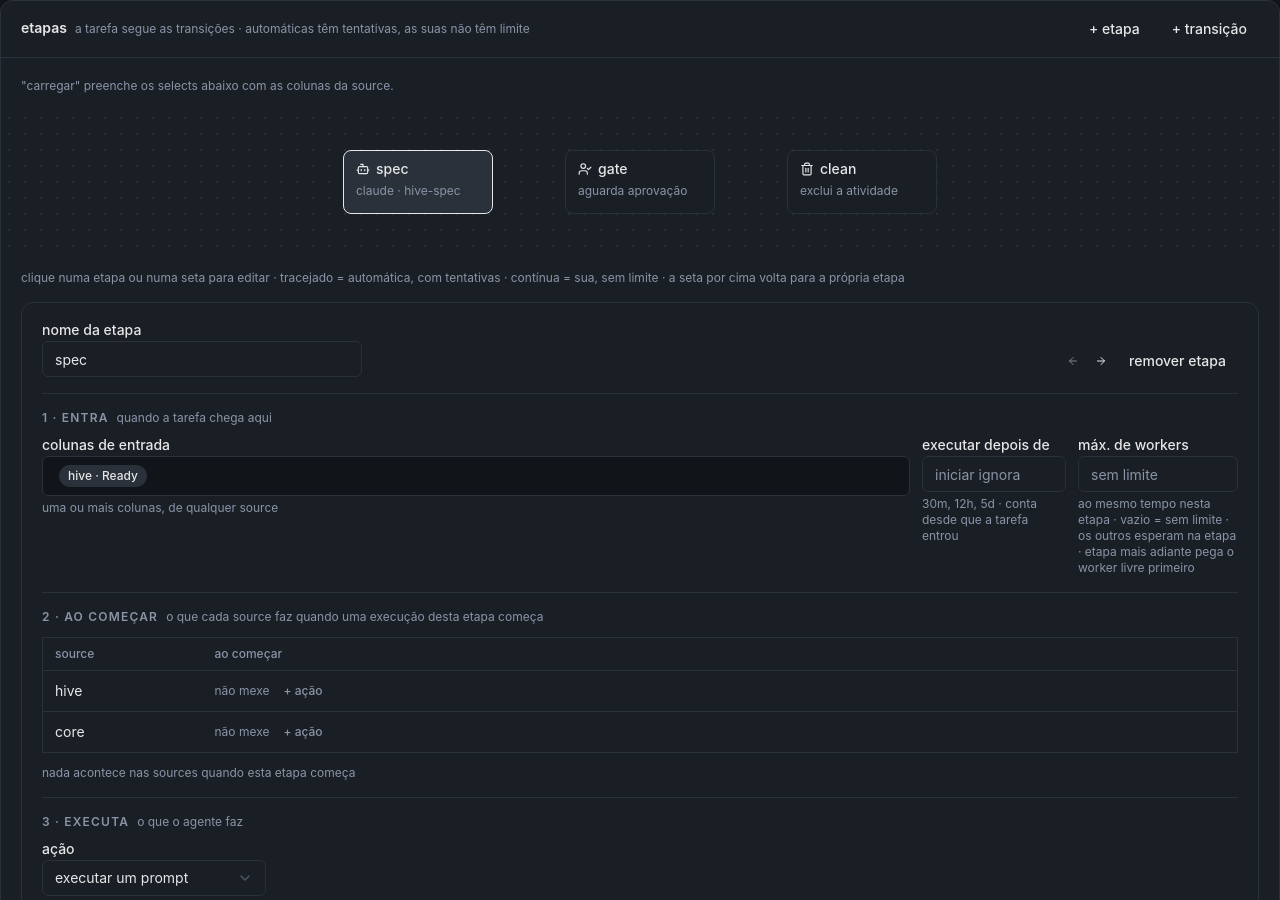
Scenario: entra: one entry select over every source, "source · column" chips, and the after / máx. de workers fields (#515)
Expected: the heading "1 · entra" is shown, [42, 410, 109, 426]
Expected: the heading "3 · executa" is shown, [42, 814, 129, 830]
Click the dropdown named "colunas de entrada" at (103, 476), box [42, 456, 910, 496]
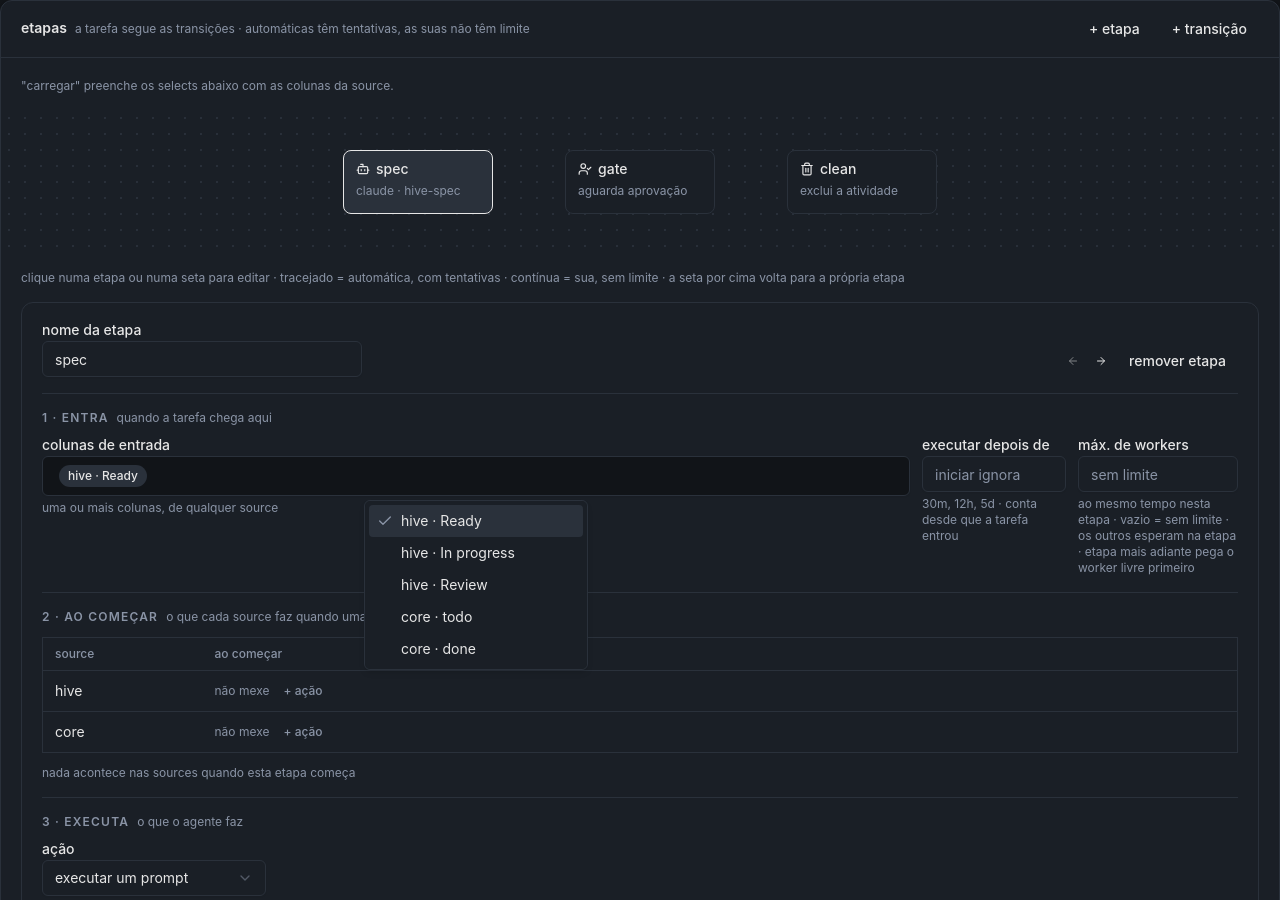
Expected: the options read "hive · Ready", "hive · In progress", "hive · Review", "core · todo", "core · done", in this order
Click the option "core · todo" at (437, 616), box [401, 608, 472, 625]
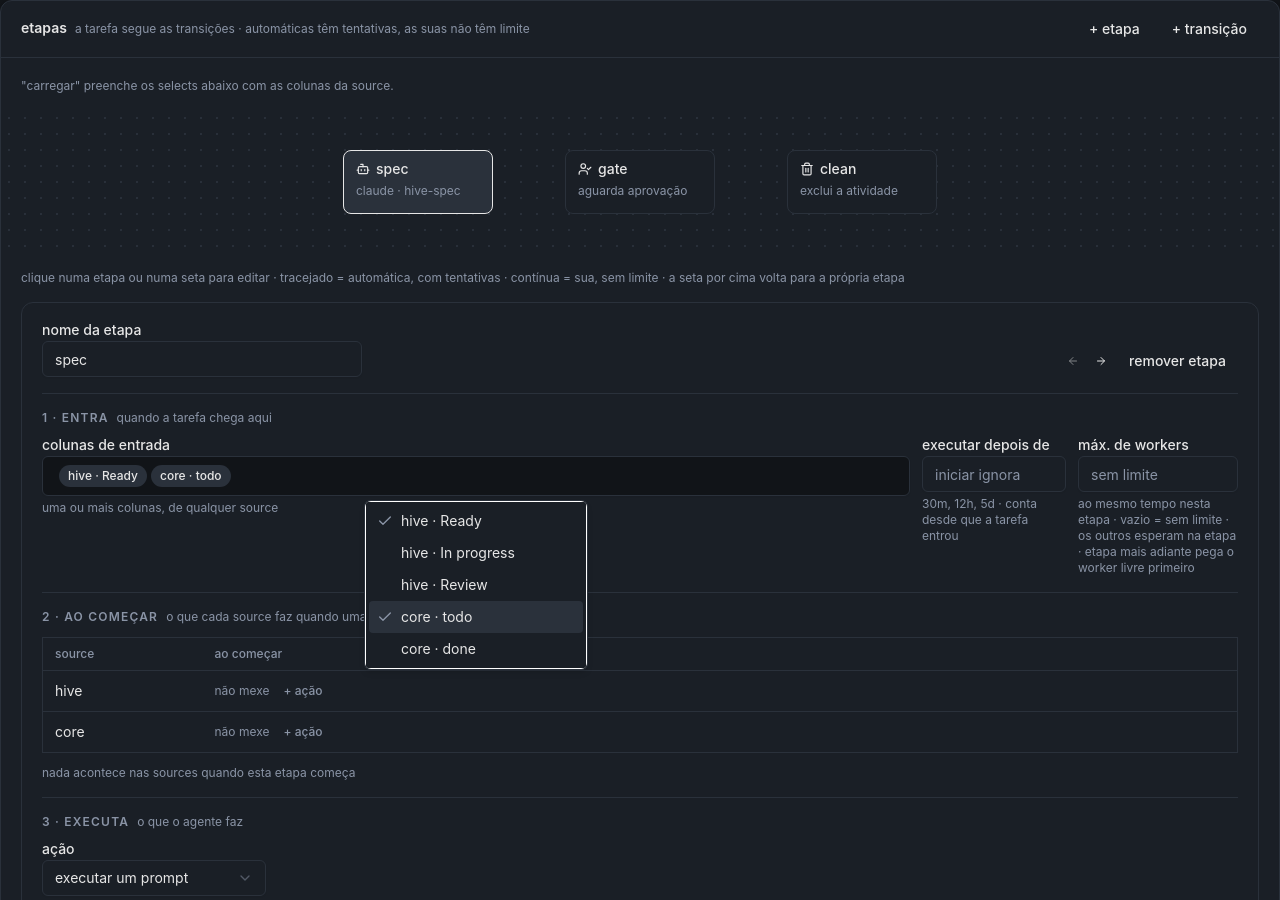
Press Escape
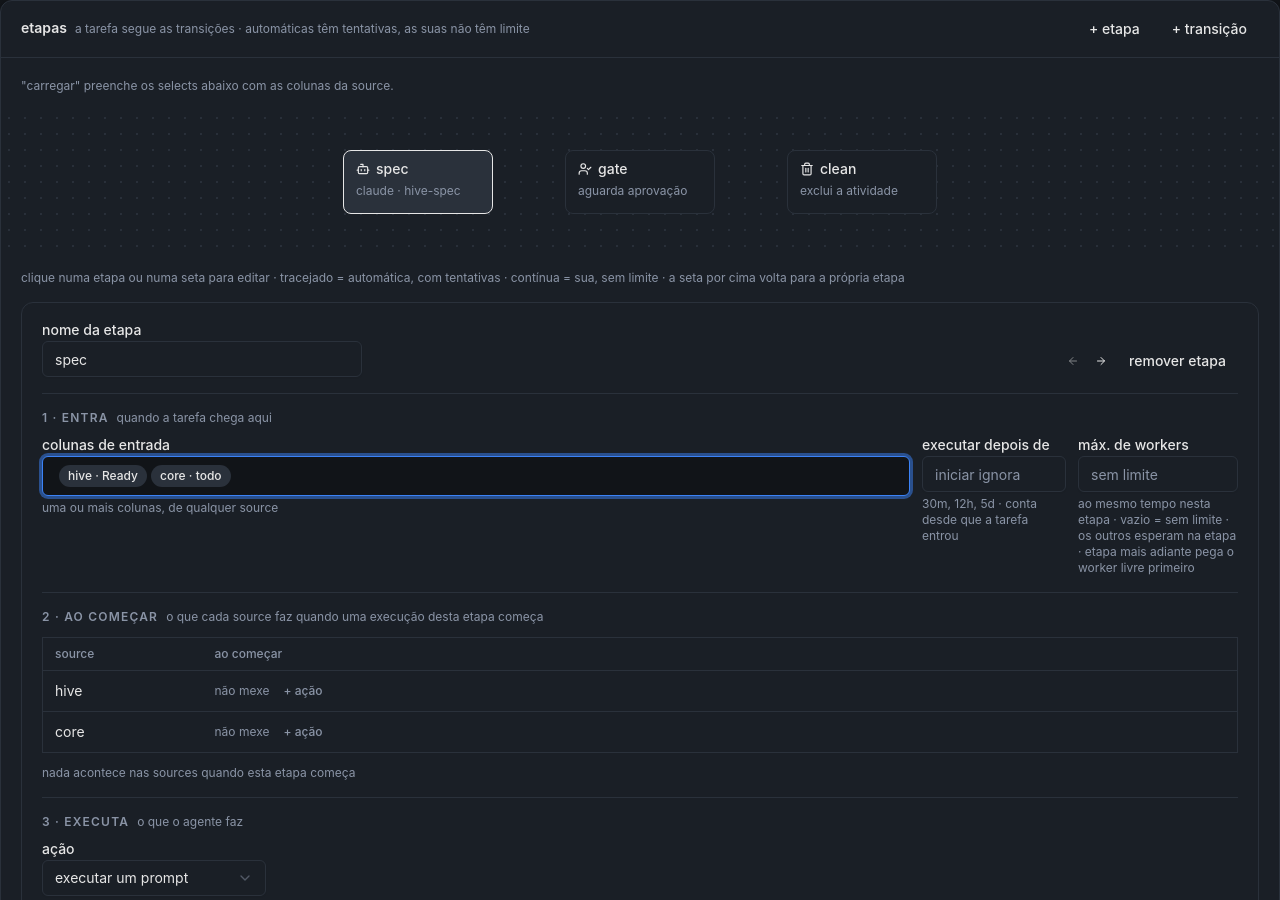
Type "5d" into the field labelled "executar depois de" at (994, 474), box [922, 456, 1066, 492]
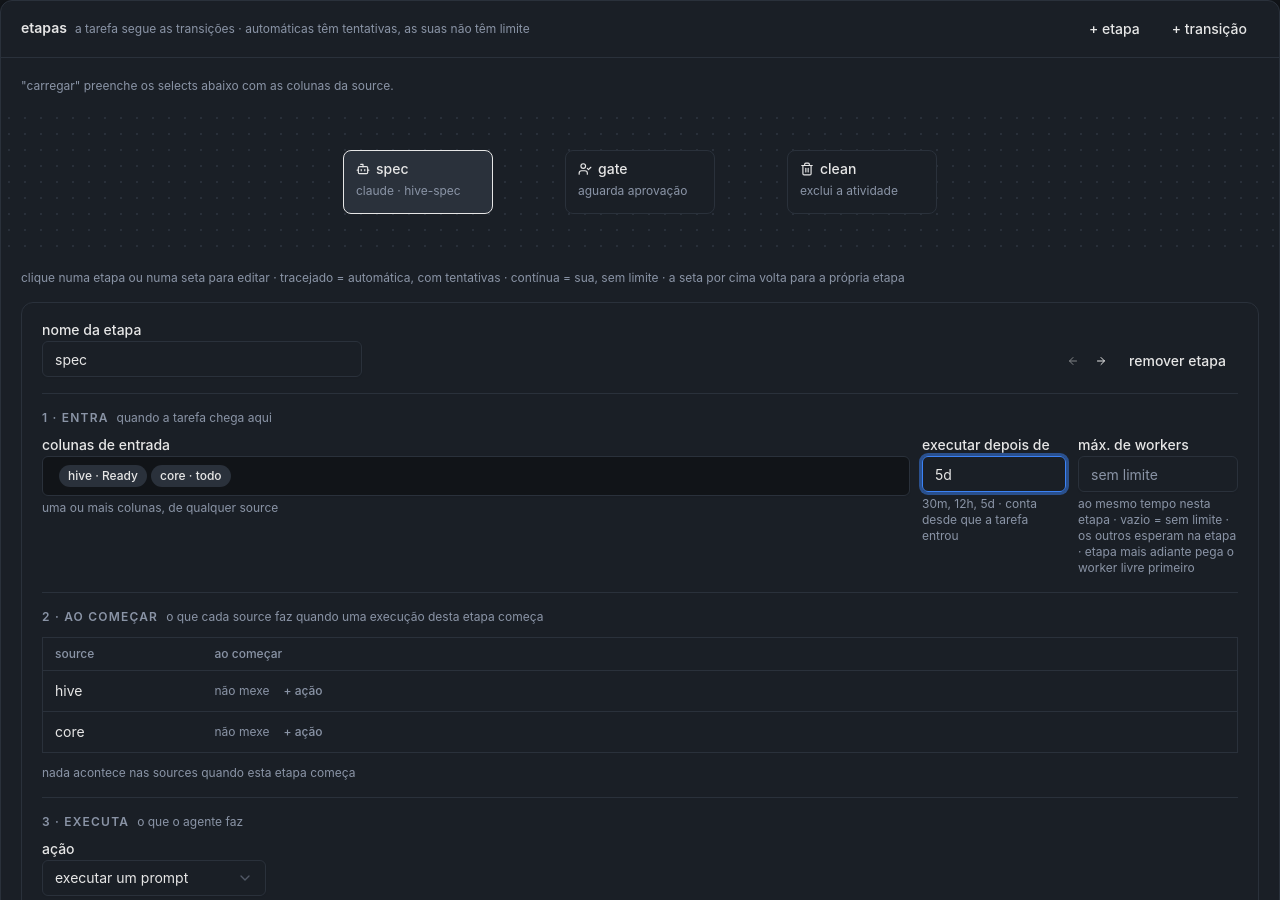
Type "1" into the number field labelled "máx. de workers" at (1158, 474), box [1078, 456, 1238, 492]
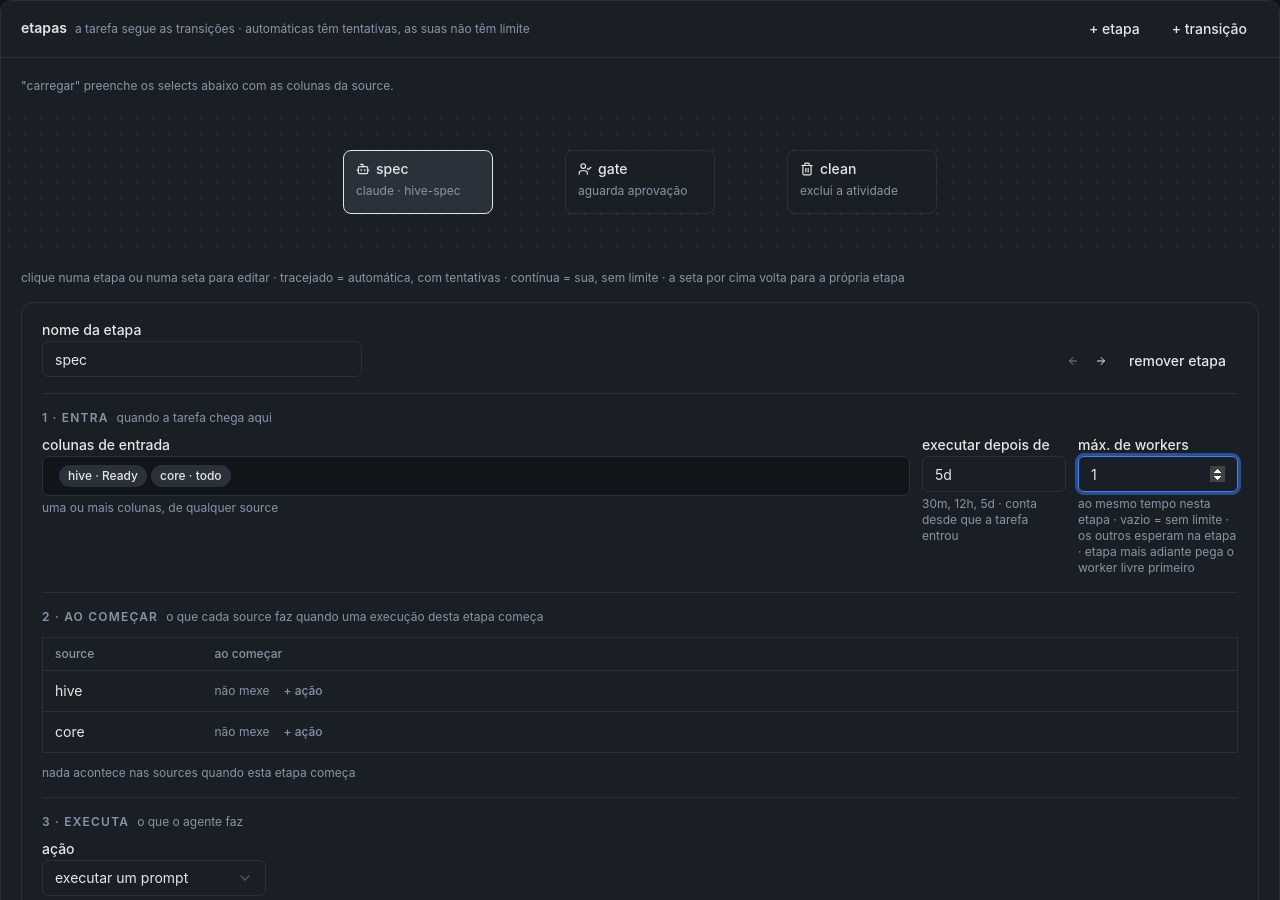
Click the button "clean exclui a atividade" at (862, 182), box [787, 150, 937, 214]
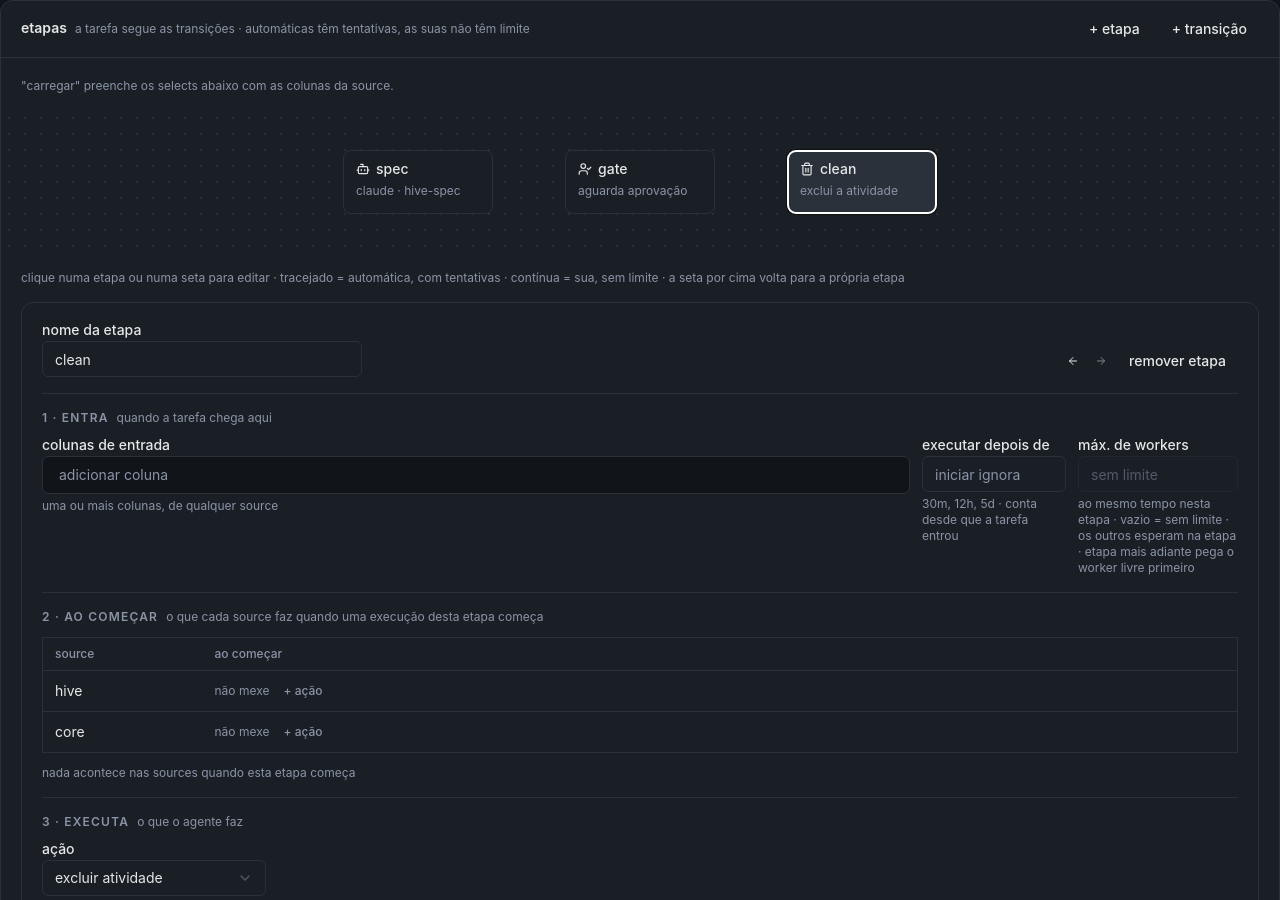
Expected: the number field labelled "máx. de workers" is disabled, [1078, 456, 1238, 492]
